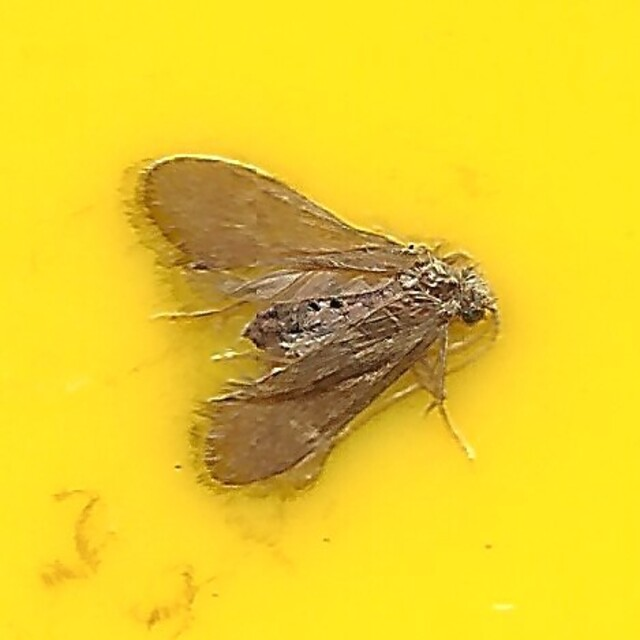Trichoptera: (136, 144, 504, 496)
